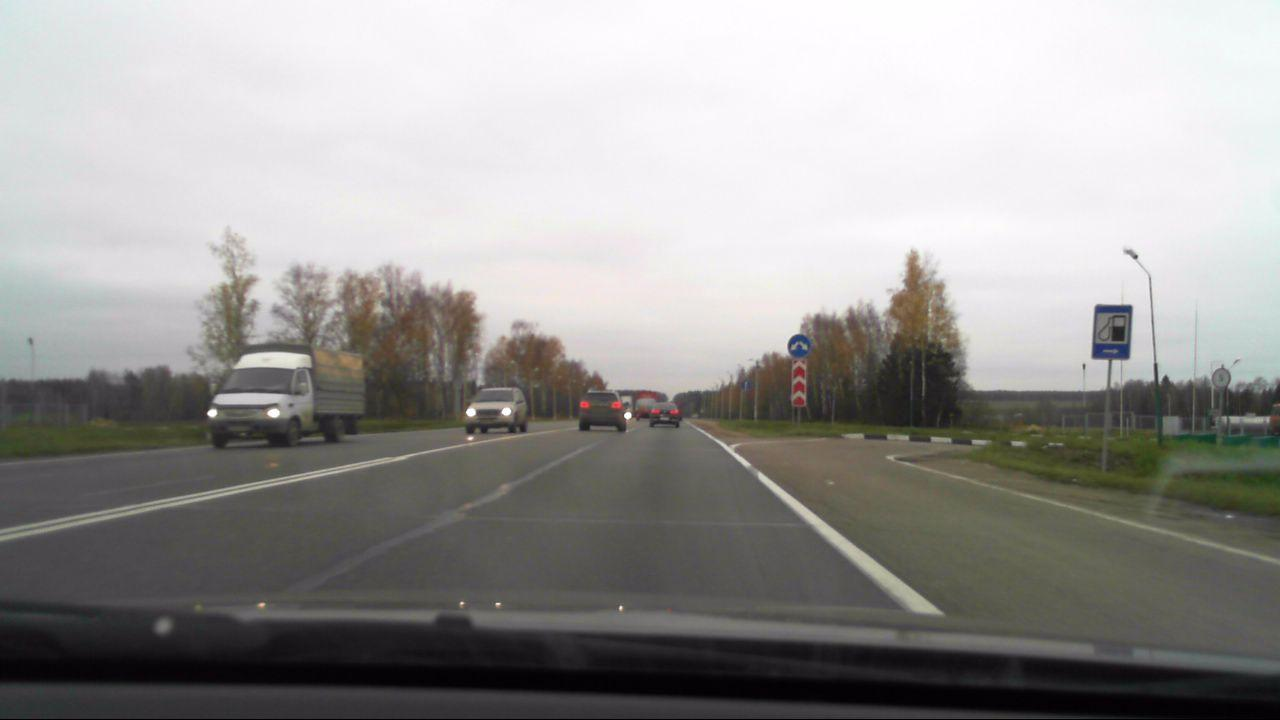4_1_1: (741, 379, 753, 390)
4_2_3: (788, 332, 813, 358)
7_3: (1092, 304, 1135, 360)
8_22_3: (789, 358, 807, 406)
